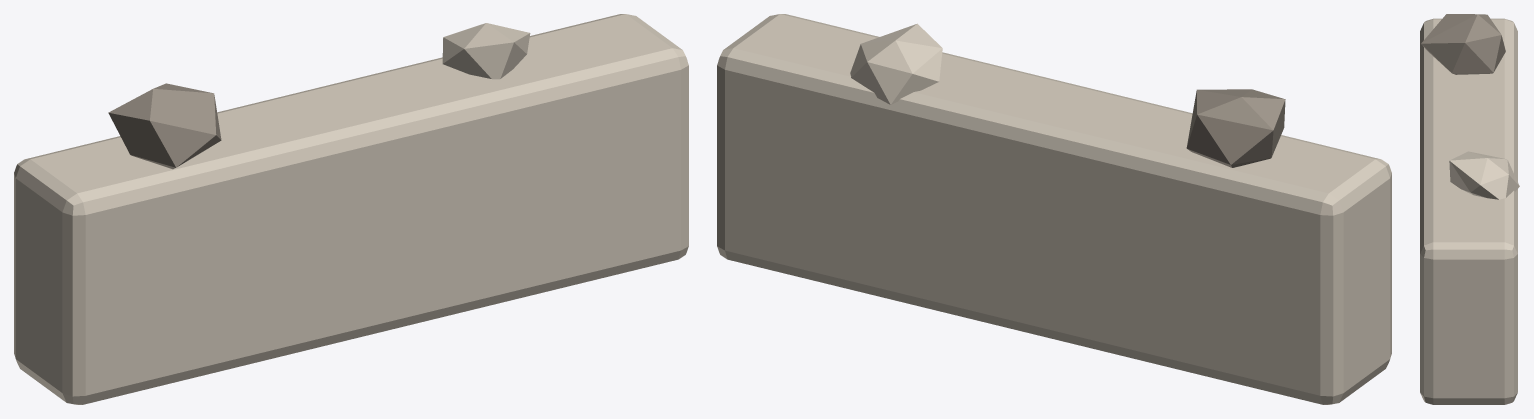
Rendered from prop_stone_wall.glb.
3 views of the same model, side by side, from view 1: azimuth 30°, elevation 25°; view 2: azimuth 150°, elevation 25°; view 3: azimuth 270°, elevation 25° (orthographic). The views are drawn at different scales.
Parts seen in each view (by area): view 1: wall_body, wall_r0, wall_r1; view 2: wall_body, wall_r0, wall_r1; view 3: wall_body, wall_r0, wall_r1.
Part boxes in pixels (x1,y1,x2,y2): wall_body: (14, 14, 688, 404); wall_r0: (108, 83, 221, 169); wall_r1: (442, 23, 530, 79); wall_body: (717, 14, 1391, 404); wall_r0: (1186, 89, 1285, 167); wall_r1: (850, 23, 942, 104); wall_body: (1420, 18, 1517, 404); wall_r0: (1421, 14, 1505, 74); wall_r1: (1449, 151, 1519, 199).
Size of the model in its own units: 1.7 by 0.7003 by 0.3061.
